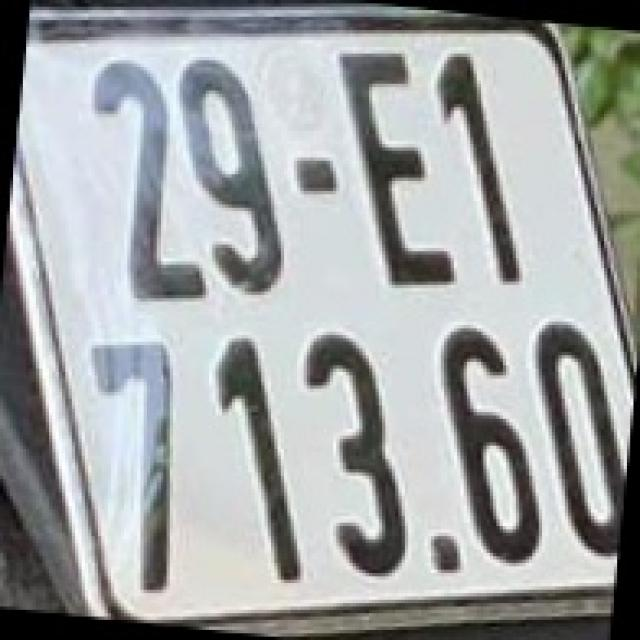0: (539, 322, 630, 560)
1: (209, 332, 307, 586), (438, 47, 536, 288)
2: (86, 52, 208, 303)
3: (304, 328, 414, 580)
6: (438, 325, 542, 570)
7: (89, 332, 190, 593)
9: (180, 54, 290, 302)
E: (334, 42, 456, 293)
